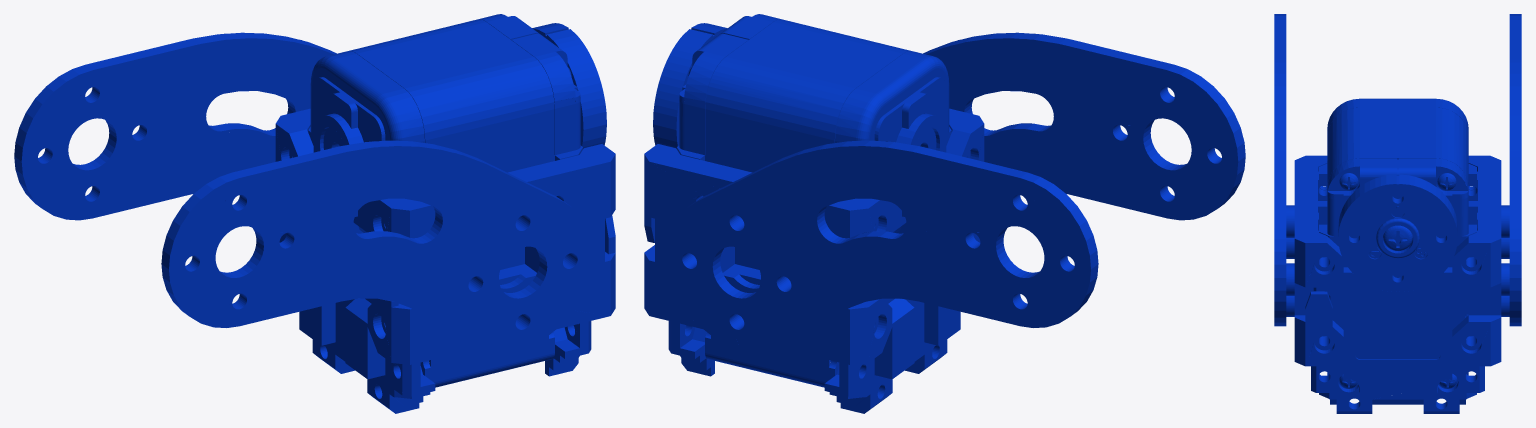
Rendered from brazo3.dae.
3 views of the same model, side by side, from view 1: azimuth 30°, elevation 25°; view 2: azimuth 150°, elevation 25°; view 3: azimuth 270°, elevation 25° (orthographic). The views are drawn at different scales.
Parts seen in each view (by area): view 1: link4; view 2: link4; view 3: link4.
Boxes of the visible parts, box(x1,y1,x2,y2) form: link4: box(14, 14, 615, 413); link4: box(644, 14, 1245, 413); link4: box(1274, 14, 1521, 413).
Size of the model in its own units: 0.0819 by 0.0454 by 0.0505.
